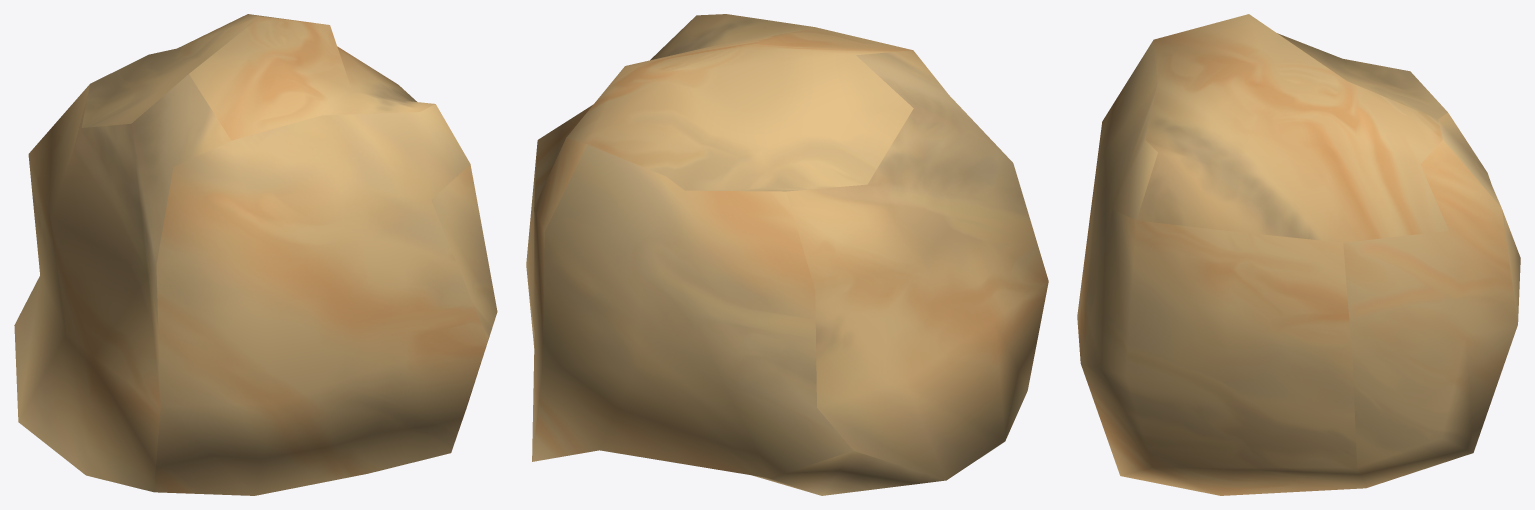
File: rock 02.fbx
3 views of the same model, side by side, from view 1: azimuth 30°, elevation 25°; view 2: azimuth 150°, elevation 25°; view 3: azimuth 270°, elevation 25° (orthographic). The views are drawn at different scales.
Visible parts, largest first — view 1: Cube.001; view 2: Cube.001; view 3: Cube.001.
Boxes of the visible parts, x1,y1,x2,y2 form: Cube.001: [14, 14, 497, 495]; Cube.001: [526, 14, 1048, 495]; Cube.001: [1077, 14, 1520, 495].
Bounding box in the file's own units: 200 × 191 × 200.
1 material, 1 textured.
